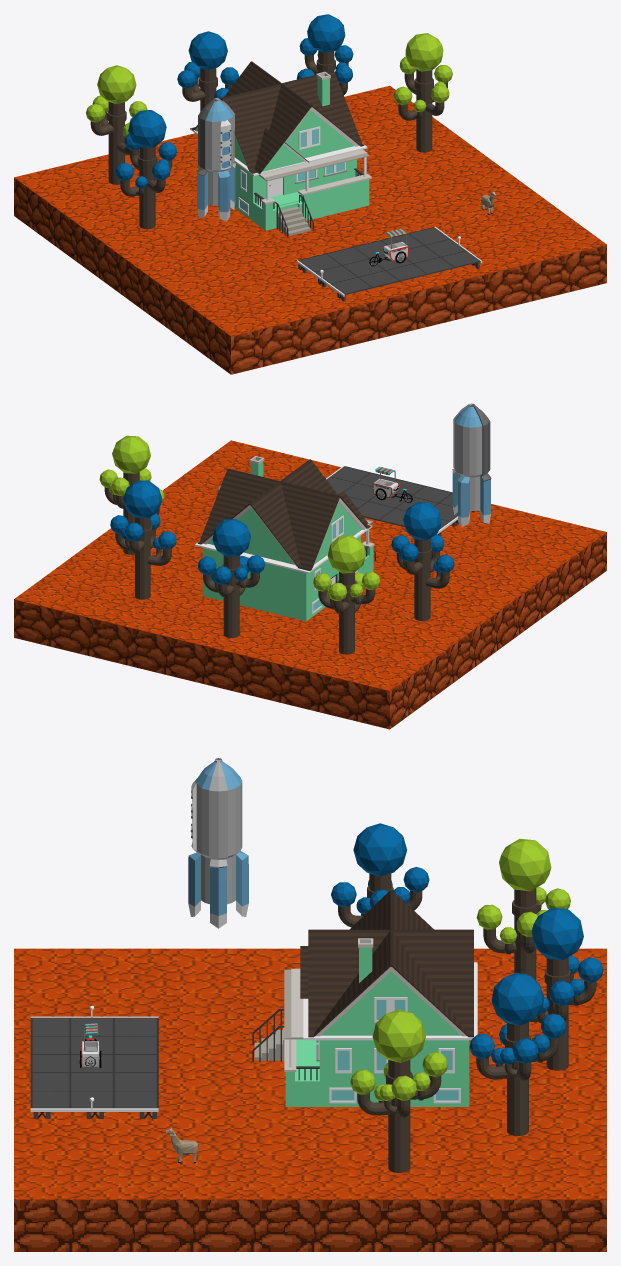
3 views of the same model, one above another, from view 1: azimuth 30°, elevation 25°; view 2: azimuth 150°, elevation 25°; view 3: azimuth 270°, elevation 25° (orthographic). The views are drawn at different scales.
Visible parts, largest first — view 1: Cube.001, Cube.352, OBJRANDOM_ROCKETSHIP, VEHICLES_SNOWBAL_BIKE; view 2: Cube.001, Cube.352, OBJRANDOM_ROCKETSHIP, VEHICLES_SNOWBAL_BIKE; view 3: Cube.001, Cube.352, OBJRANDOM_ROCKETSHIP, VEHICLES_SNOWBAL_BIKE.
Part boxes in pixels (<box>): Cube.001: <box>14,14,606,374</box>; Cube.352: <box>190,61,371,237</box>; OBJRANDOM_ROCKETSHIP: <box>197,98,235,221</box>; VEHICLES_SNOWBAL_BIKE: <box>369,228,409,266</box>; Cube.001: <box>14,435,606,729</box>; Cube.352: <box>195,456,375,621</box>; OBJRANDOM_ROCKETSHIP: <box>452,403,491,526</box>; VEHICLES_SNOWBAL_BIKE: <box>372,466,412,502</box>; Cube.001: <box>14,823,606,1251</box>; Cube.352: <box>252,890,477,1106</box>; OBJRANDOM_ROCKETSHIP: <box>188,758,248,928</box>; VEHICLES_SNOWBAL_BIKE: <box>79,1023,101,1067</box>.
Bounding box in the file's own units: 4000 × 2154 × 4000.
38 materials, 4 textured.
